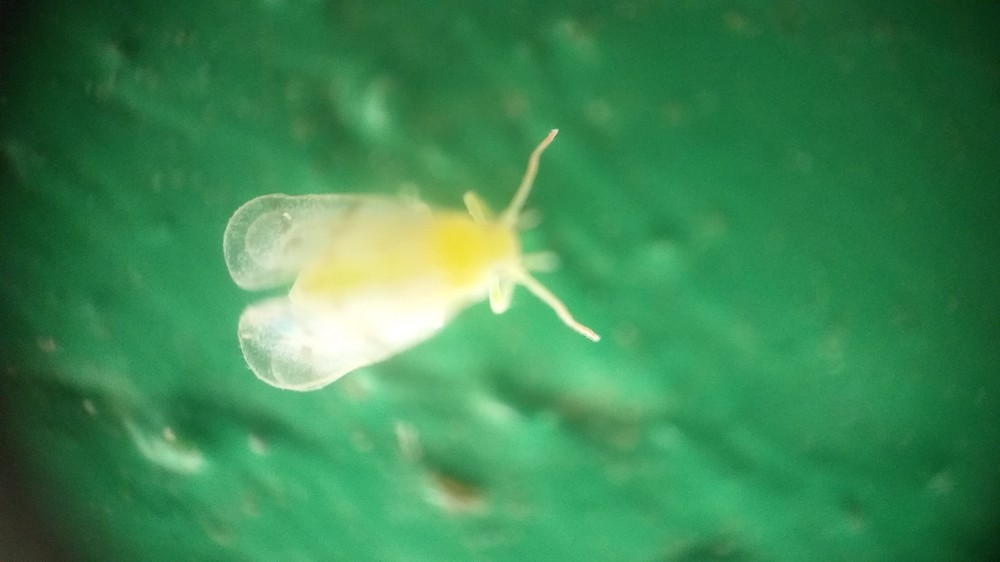Mosca Blanca: (207, 114, 623, 431)
